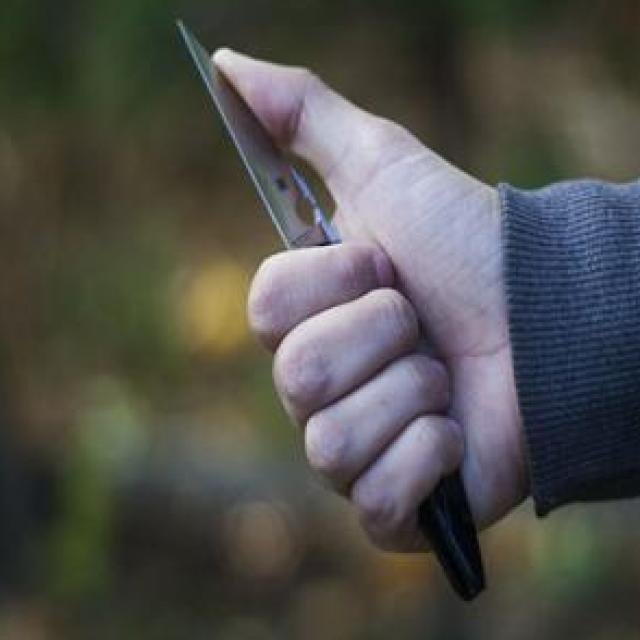knife: (161, 2, 455, 412)
